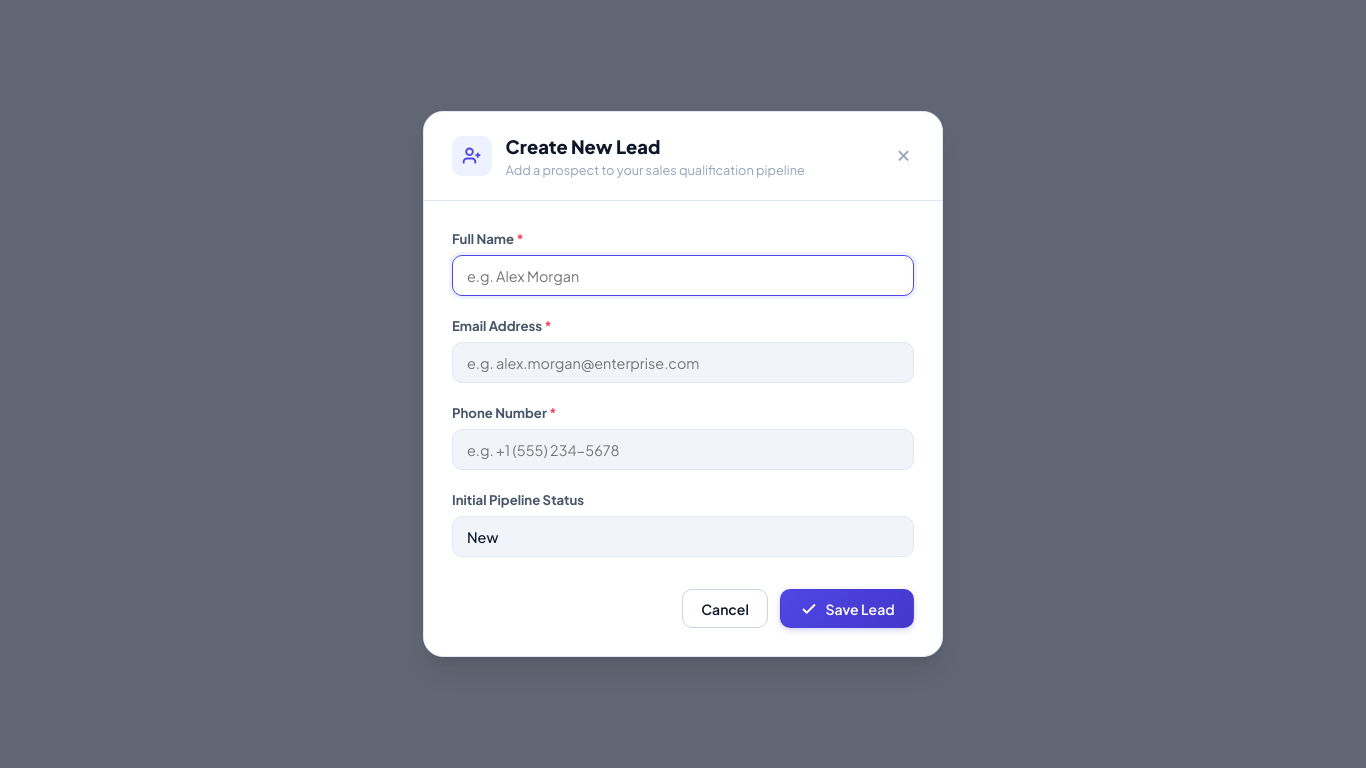
Test: CreateLeadModal › validates required fields before submitting
Click the button "Save Lead": (847, 609) [780,589,914,628]
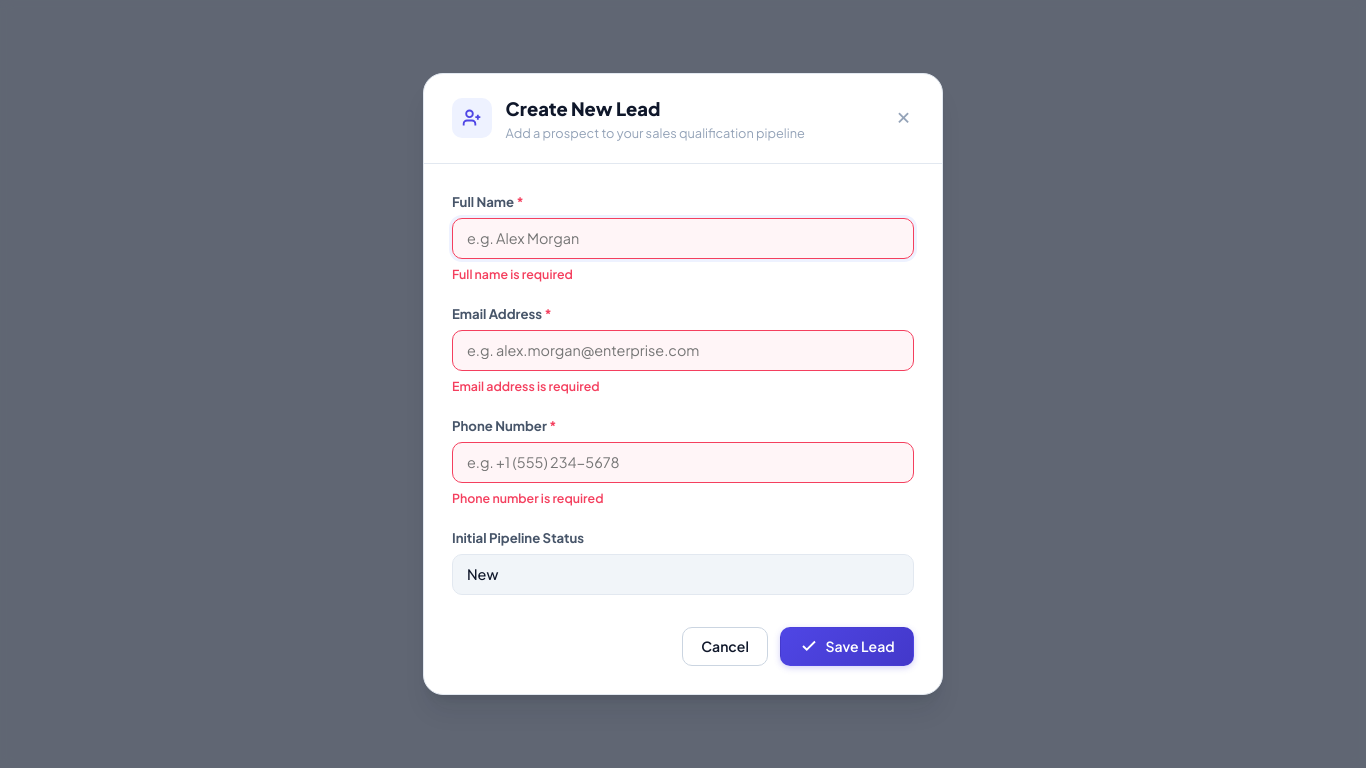
Expected: the text "Full name is required" is shown, [452,266,573,282]
